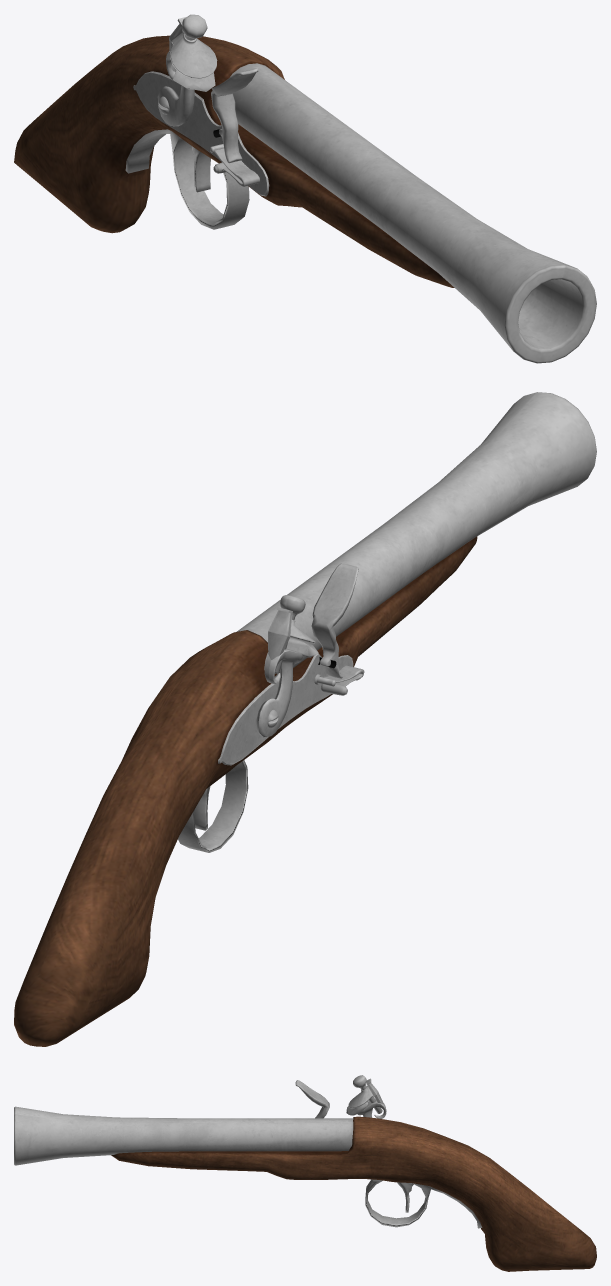
Rendered from Pistol.fbx.
3 views of the same model, one above another, from view 1: azimuth 30°, elevation 25°; view 2: azimuth 150°, elevation 25°; view 3: azimuth 270°, elevation 25° (orthographic). The views are drawn at different scales.
Visible parts, largest first — view 1: Beral, Handvat001, Function_gun, Beral1; view 2: Handvat001, Beral, Function_gun, Beral1; view 3: Handvat001, Beral, Function_gun, Beral1.
Boxes of the visible parts, x1,y1,x2,y2 form: Beral: [230, 63, 596, 363]; Handvat001: [14, 35, 454, 287]; Function_gun: [133, 14, 269, 196]; Beral1: [125, 129, 249, 229]; Handvat001: [14, 536, 477, 1046]; Beral: [236, 392, 596, 667]; Function_gun: [218, 563, 364, 765]; Beral1: [178, 760, 248, 852]; Handvat001: [111, 1116, 596, 1271]; Beral: [14, 1106, 353, 1165]; Function_gun: [295, 1075, 386, 1118]; Beral1: [365, 1179, 482, 1228].
Bounding box in the file's own units: 10.42 × 27.12 × 79.32.
Materials: 1 (1 with a texture image).
